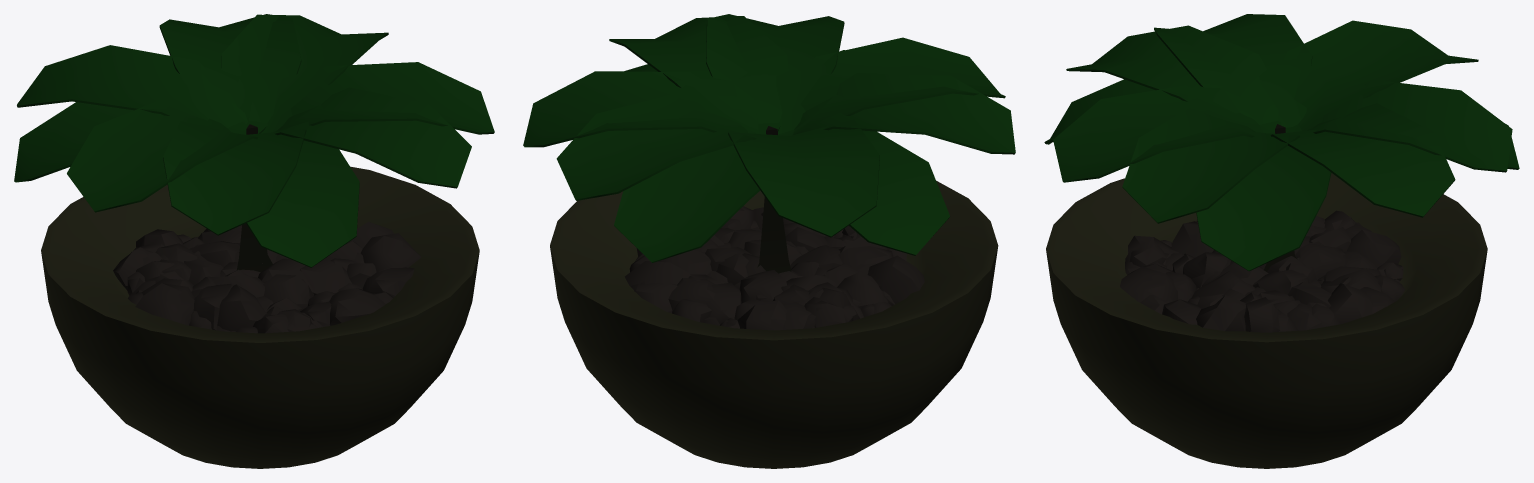
The model's file is Plant_Holo_01.fbx.
3 views of the same model, side by side, from view 1: azimuth 30°, elevation 25°; view 2: azimuth 150°, elevation 25°; view 3: azimuth 270°, elevation 25° (orthographic). The views are drawn at different scales.
Parts seen in each view (by area): view 1: PLANT_01; view 2: PLANT_01; view 3: PLANT_01.
Boxes of the visible parts, x1,y1,x2,y2 form: PLANT_01: [14, 14, 494, 468]; PLANT_01: [523, 14, 1015, 468]; PLANT_01: [1044, 14, 1519, 468].
Bounding box in the file's own units: 107 × 89.11 × 108.
